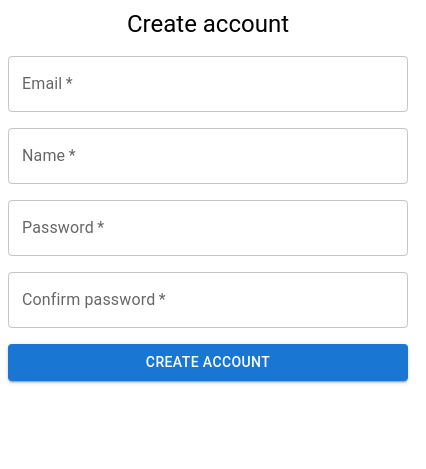
Scenario: AuthForm — signUp mode › shows error when passwords do not match
In the password field labelled "Password *": {"x": 208, "y": 228} [8,200,408,256], type "password123"
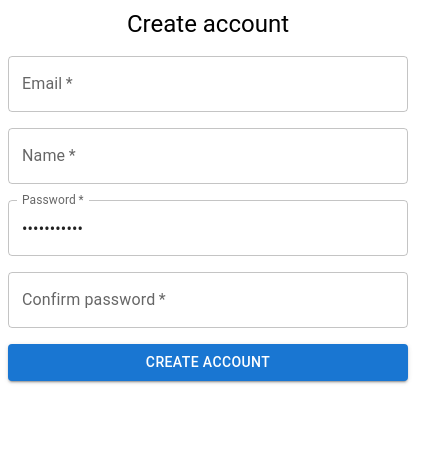
In the password field labelled "Confirm password *": {"x": 208, "y": 300} [8,272,408,328], type "different123"
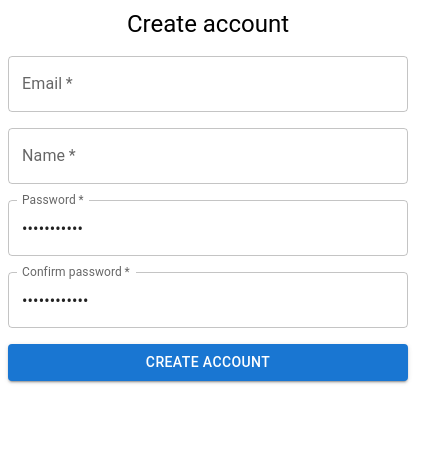
Click the button "Create account": {"x": 208, "y": 362} [8,344,408,380]
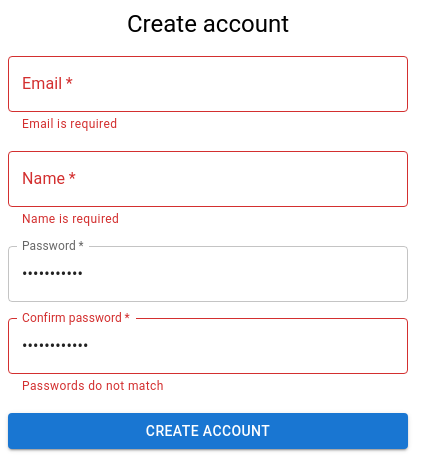
Expected: the text "Passwords do not match" is shown, [22,379,164,393]
